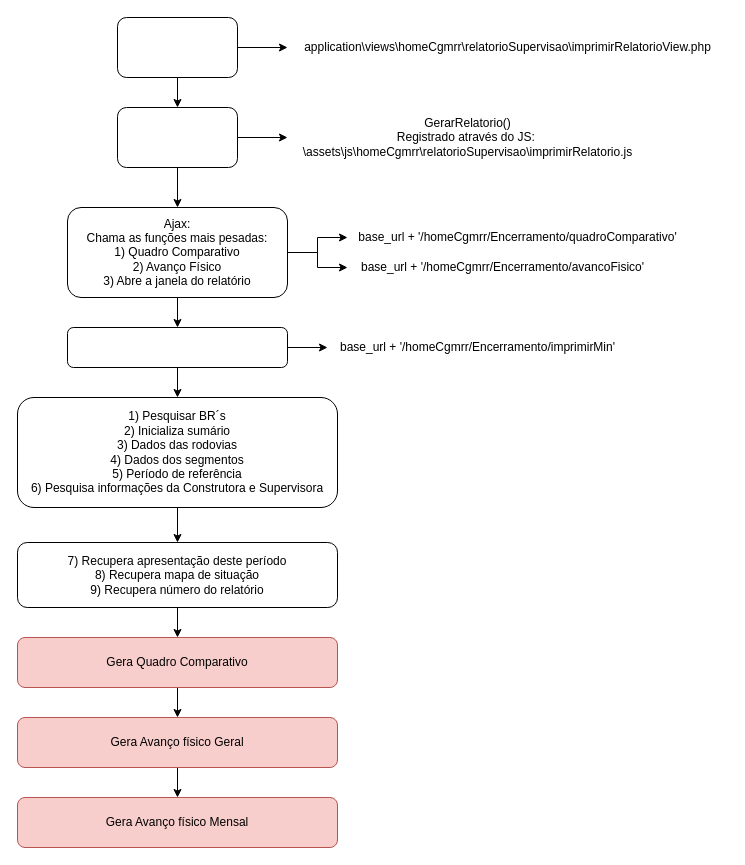
This 745x865 diagram has some shape labels left out. The shapes that lost their labels are listed below. From the top down, each one's centre as x and y in pixels, then its label:
At pixel 177 47: "View -Gerar relatório".
At pixel 177 137: "Botão relatório".
At pixel 177 347: "Imprimi o relatório".
